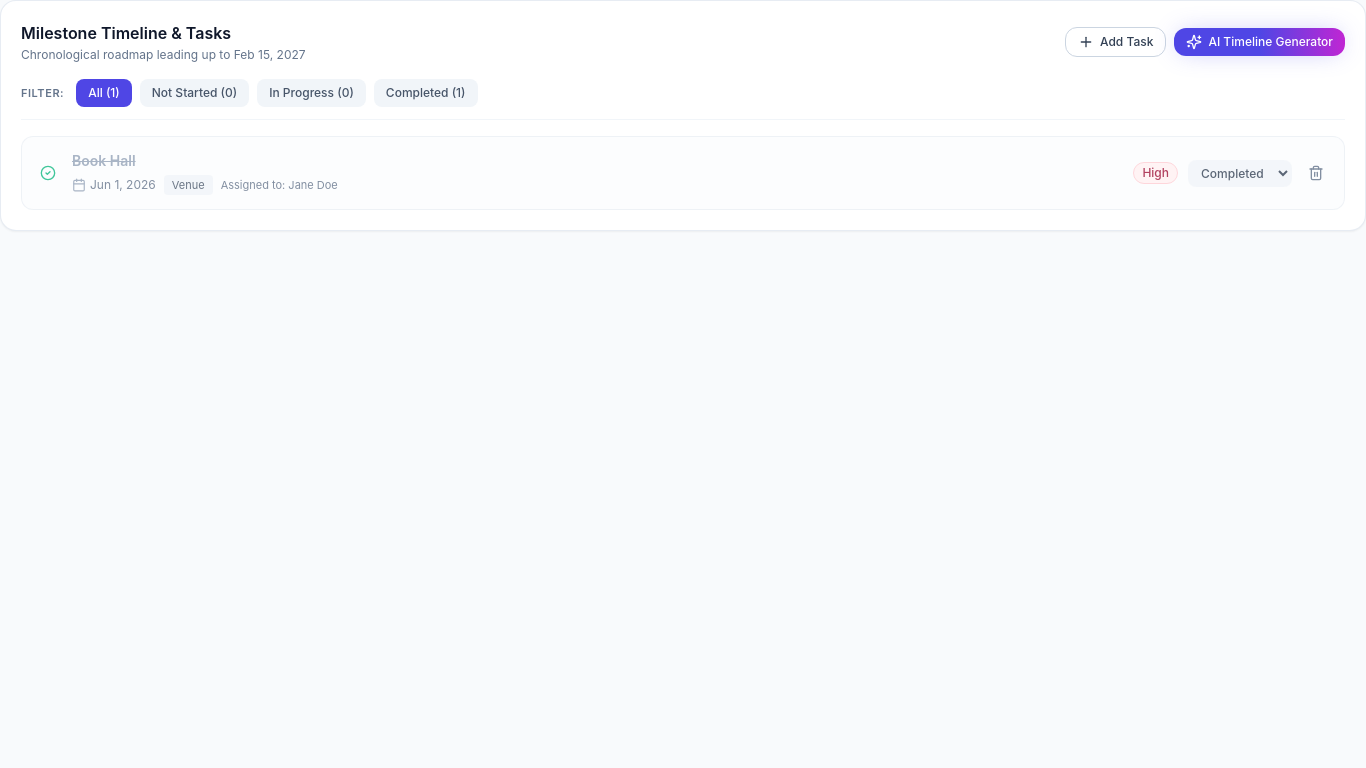
Test: TimelineView component › handles assignedTo, empty filter results, completed cycle, and modal open/close
Check: the text "Assigned to: Jane Doe" is shown, box 221,177 -> 338,193
Click the button named "toggle status for task: book hall" at (48, 173), box 36,161 -> 60,185
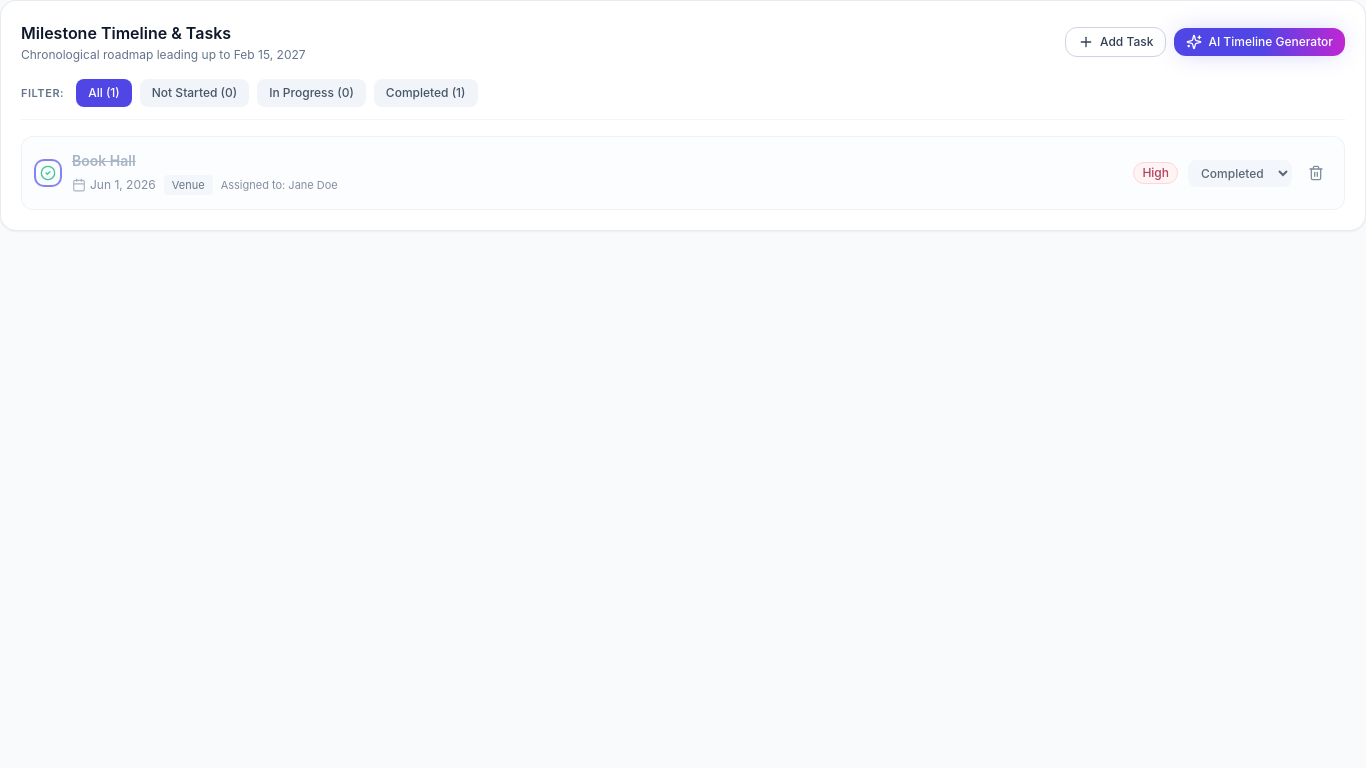
Note: Filter by in_progress (0 tasks)
Click the button "In Progress (0)" at (312, 93), box 257,79 -> 366,107
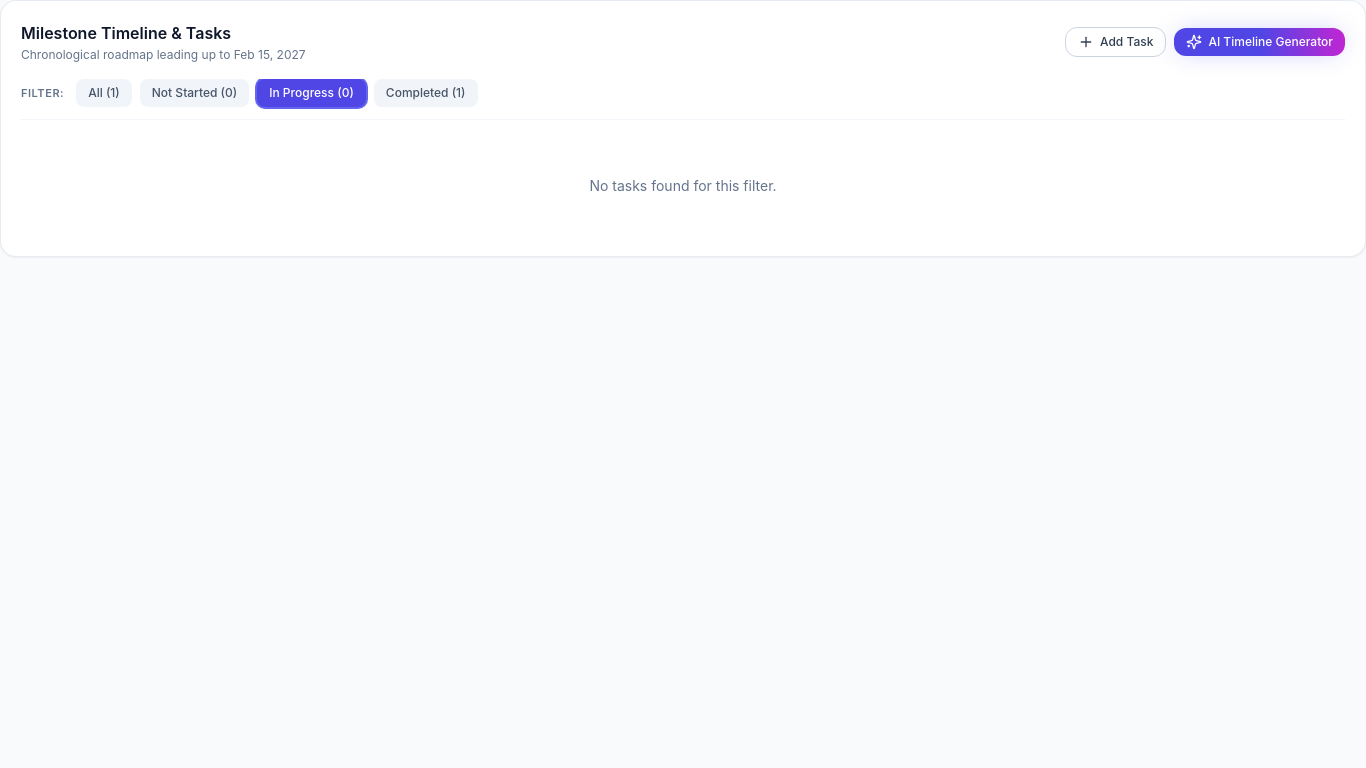
Check: the text "No tasks found for this filter." is shown, box 589,177 -> 777,194
Note: Open add task modal
Click the button "Add Task" at (1116, 42), box 1065,27 -> 1166,57
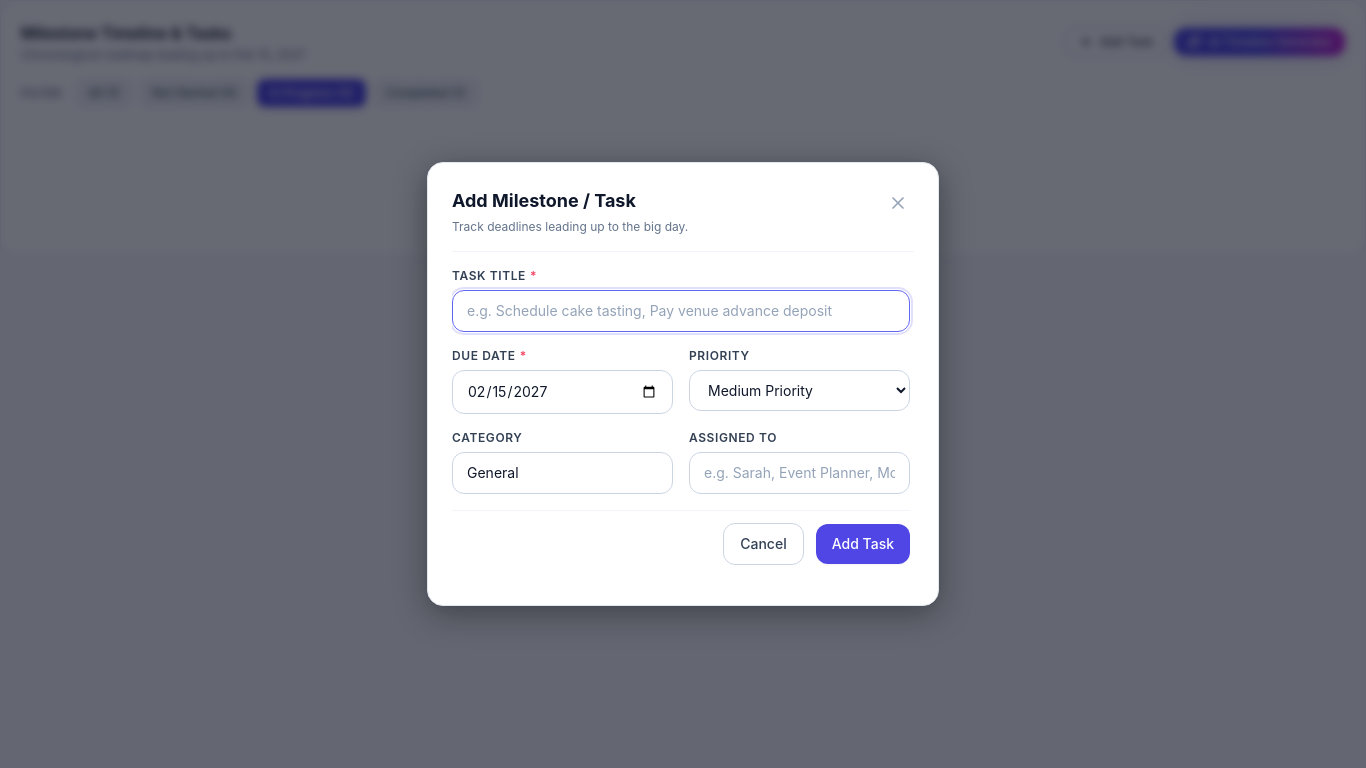
Check: the heading "Add Milestone / Task" is shown, box 452,190 -> 636,211
Note: Cancel modal
Click the button "Cancel" at (763, 544), box 723,523 -> 804,565
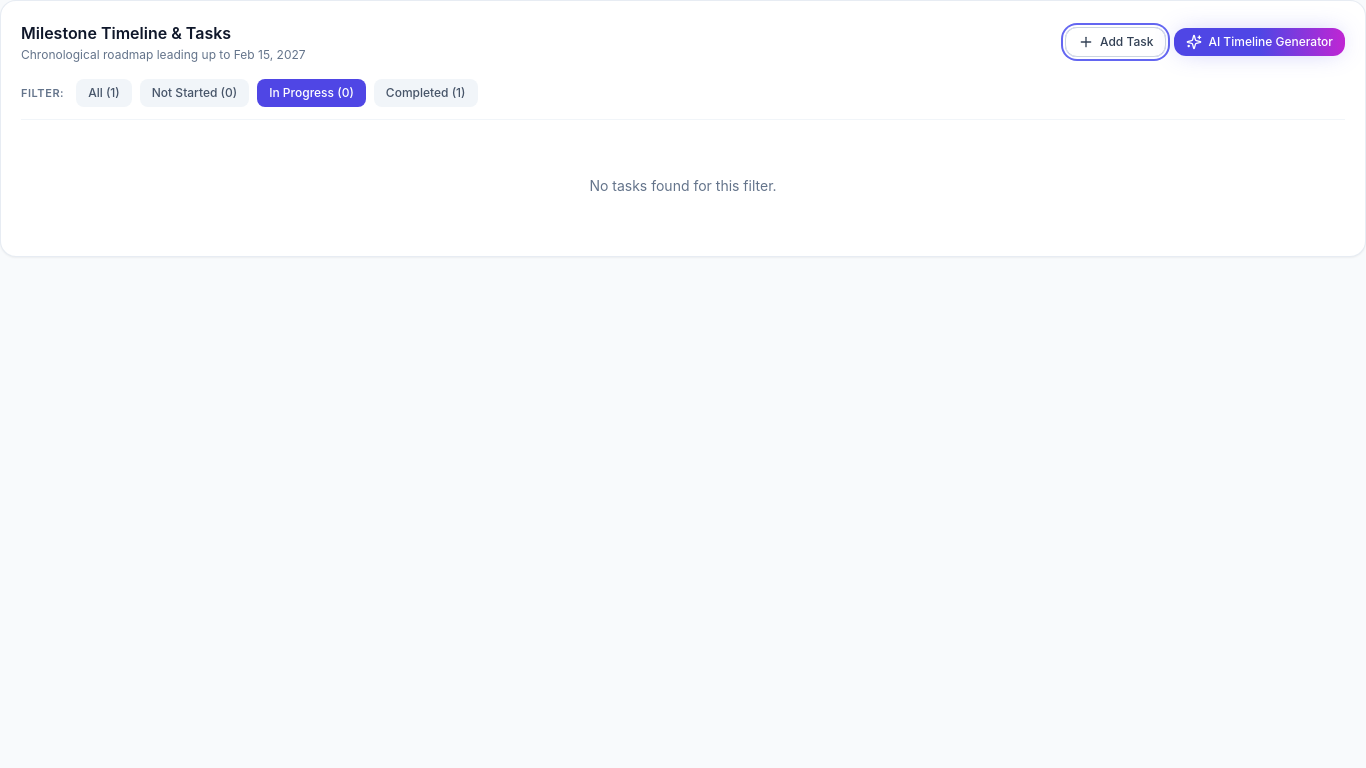
Check: the heading "Add Milestone / Task" is gone
